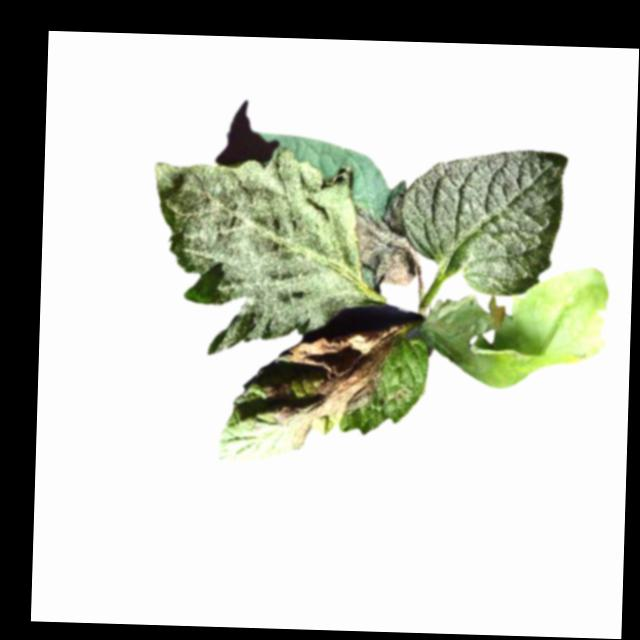Late_blight: (167, 185, 324, 356), (426, 262, 612, 393), (260, 319, 403, 452), (354, 189, 420, 289)
